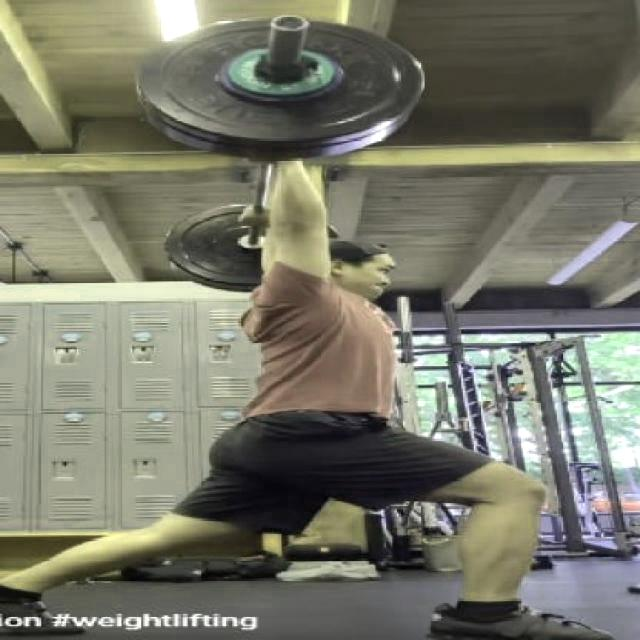barbell: (138, 12, 442, 161)
